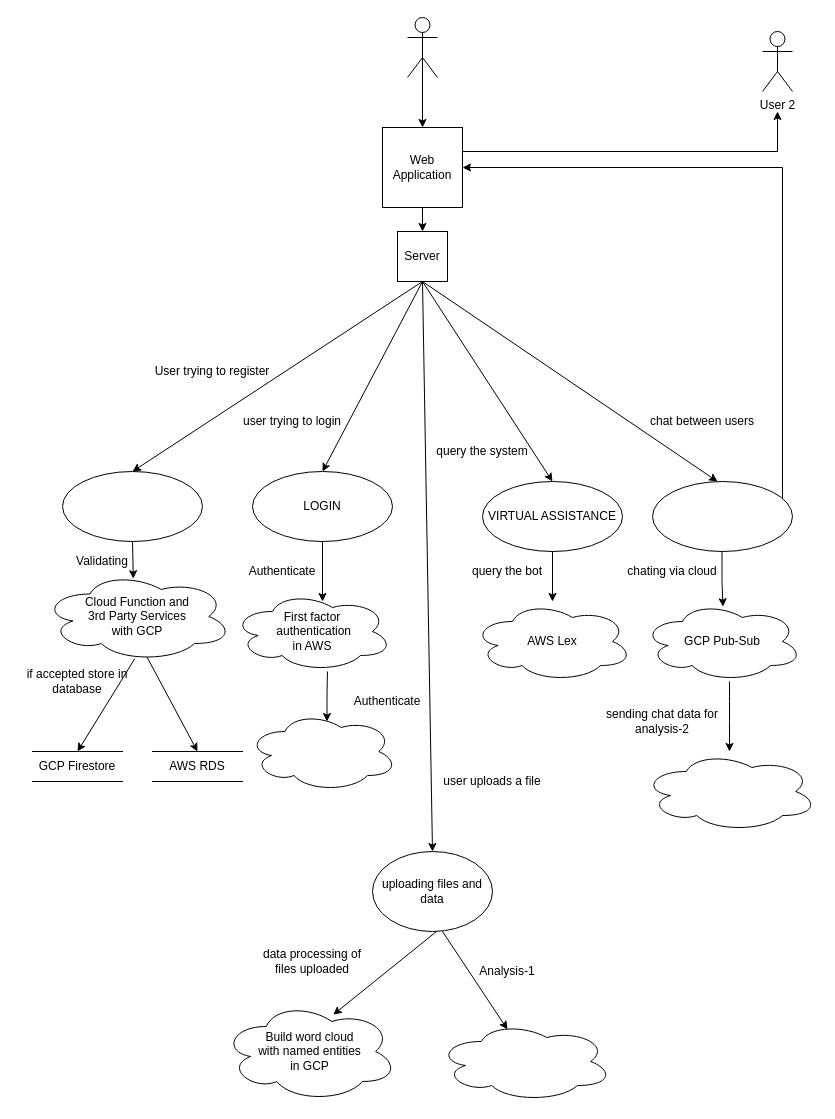
The diagram is 835 pixels wide and 1119 high, and some of its shapes have lost their labels. The shapes that lost their labels are listed below. From the top down, each one's centre as x and y in pixels, then its label:
At [422,47]: "User 1".
At [132,506]: "REGISTRATION".
At [722,516]: "CHAT FUNCTIONALITY".
At [322,751]: "2nd factor authentication in GCP".
At [730,791]: "Sentiment Analysis with AWS".
At [524,1061]: "Text similarity analysis with AWS".
